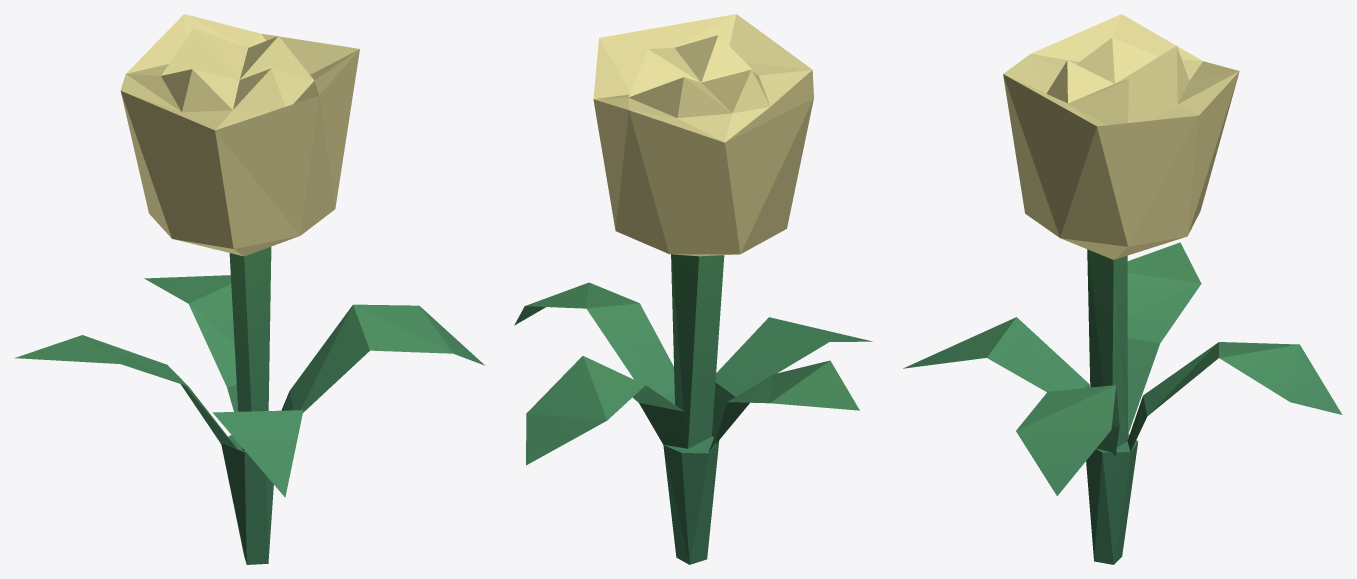
File: plant_S04.fbx
3 renders of one model, left to right at view 1: azimuth 30°, elevation 25°; view 2: azimuth 150°, elevation 25°; view 3: azimuth 270°, elevation 25°, orthographic. The views are drawn at different scales.
Parts seen in each view (by area): view 1: plant_S04; view 2: plant_S04; view 3: plant_S04.
Boxes of the visible parts, box(x1,y1,x2,y2) form: plant_S04: box(14, 14, 485, 564); plant_S04: box(514, 14, 872, 564); plant_S04: box(903, 14, 1342, 564).
Size of the model in its own units: 41.89 by 50.25 by 40.08.
Materials: 1 (1 with a texture image).
